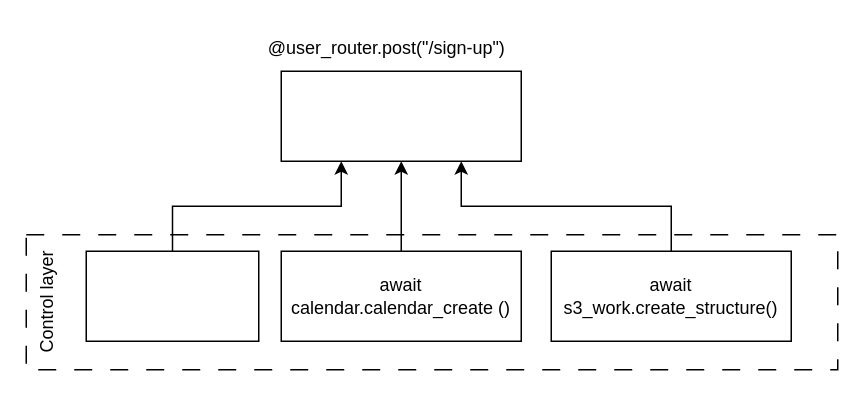
This 864x396 diagram has some shape labels left out. The box of each missing label's shape, as (x1, y1, x2, y2) in pixels:
await user.create_user(): (85, 250, 259, 341)
create_user(): (280, 70, 521, 161)
